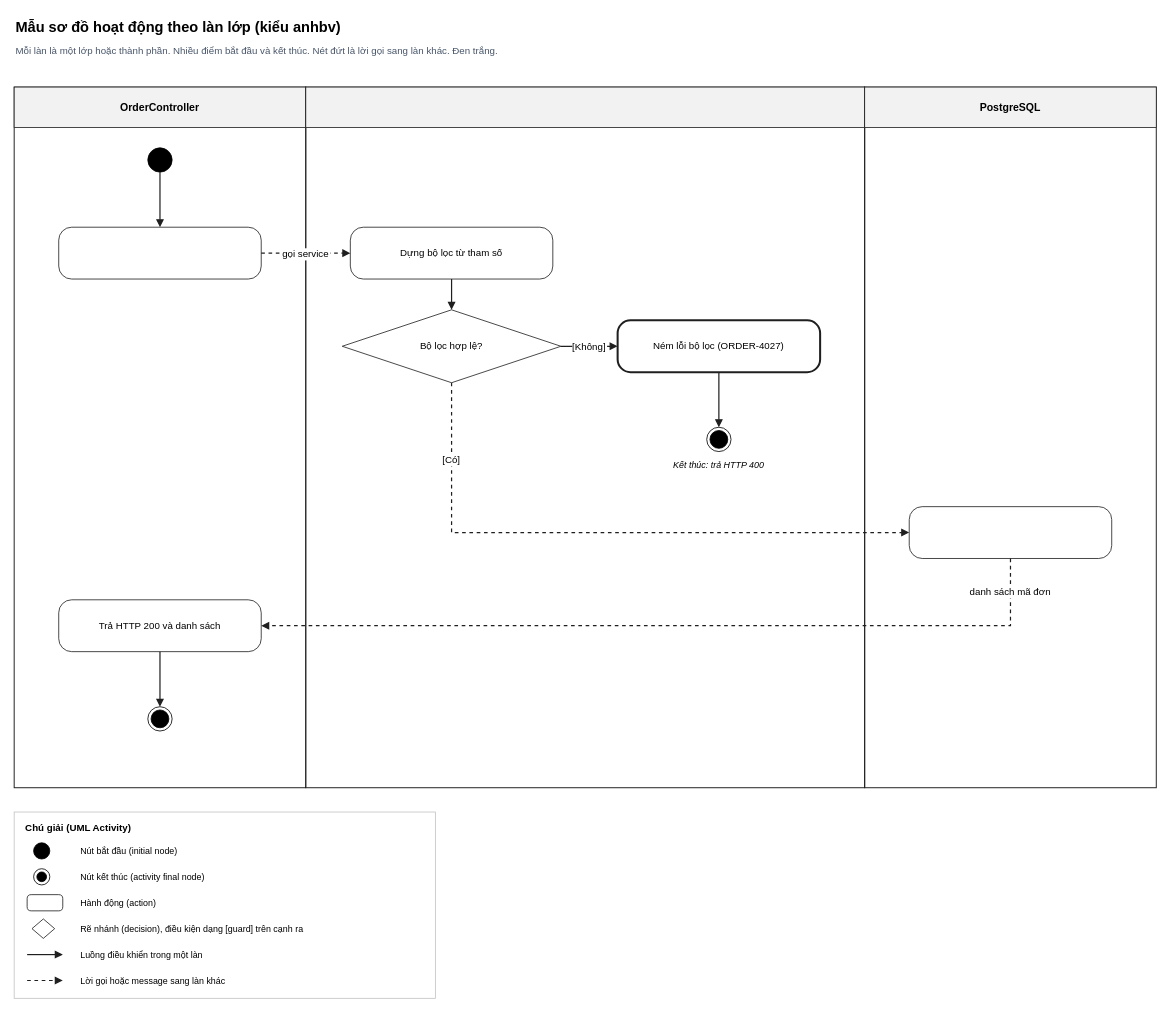
Some shapes in this 1171 by 1013 pixel diagram are drawn without their labels. The shapes that lost their labels are listed below. From the top down, each one's centre as x and y in pixels, then its label:
At (585,107): "OrderService (sub 0) và OrderValidator (sub 1)".
At (159,252): "Nhận yêu cầu GET /orders".
At (1010,532): "SELECT id ... một trang".
